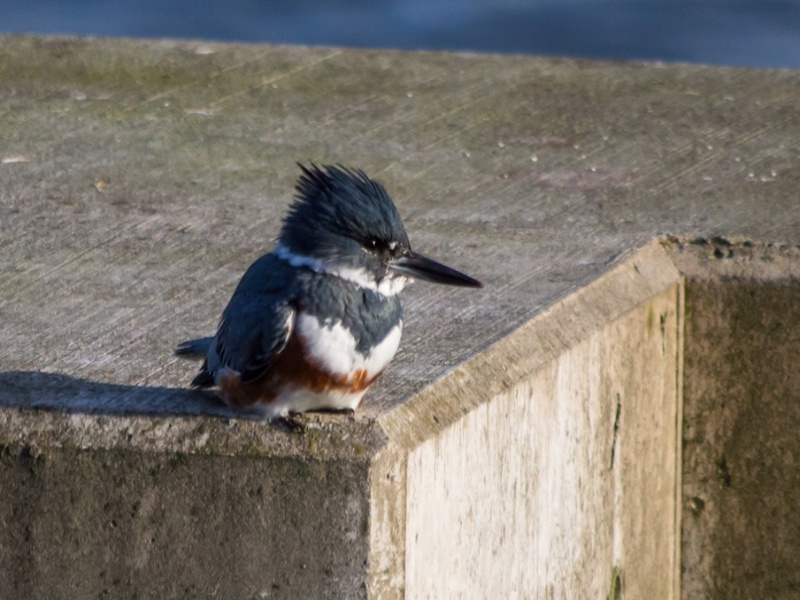kingfisher: (175, 159, 487, 437)
